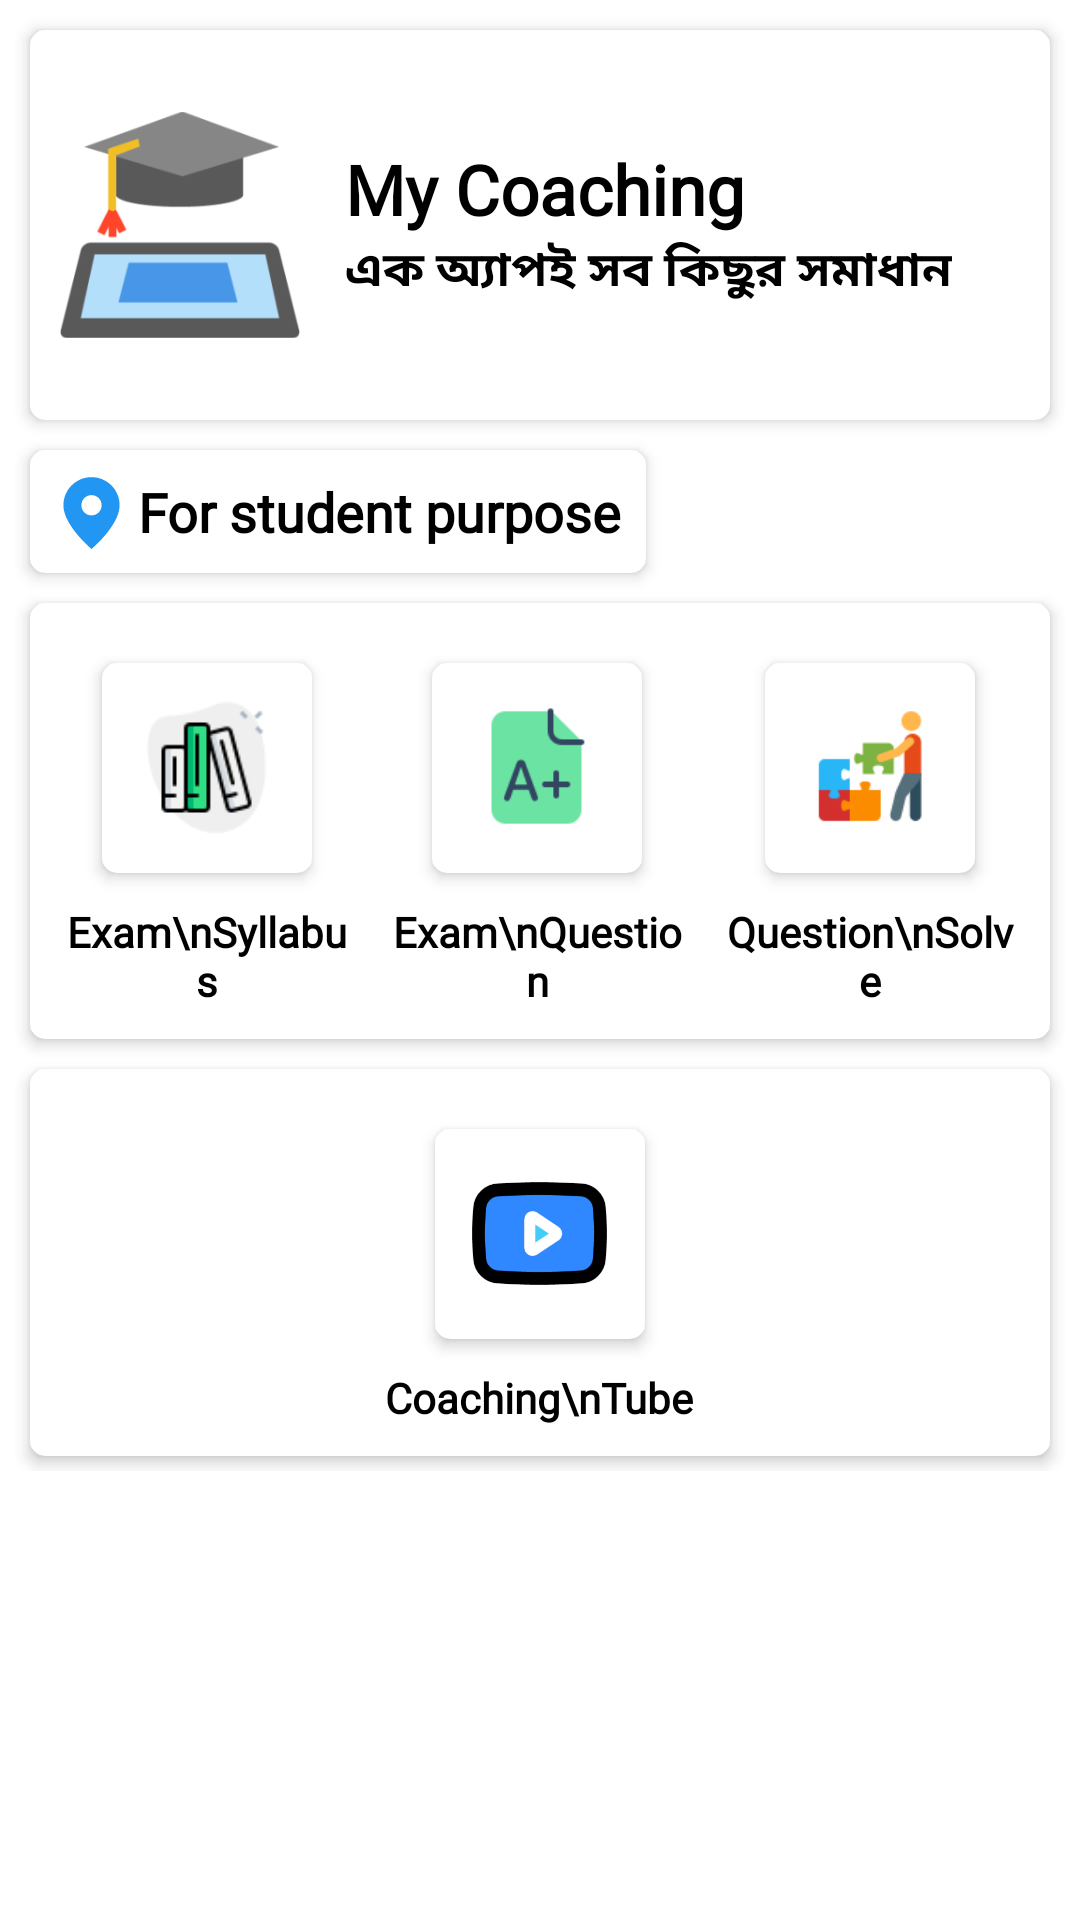

Screen size 1080w x 1920h. Icon name, then its center in pixels as [x,y]:
exam question: [538,766]
map pin: [91,513]
video: [539,1233]
